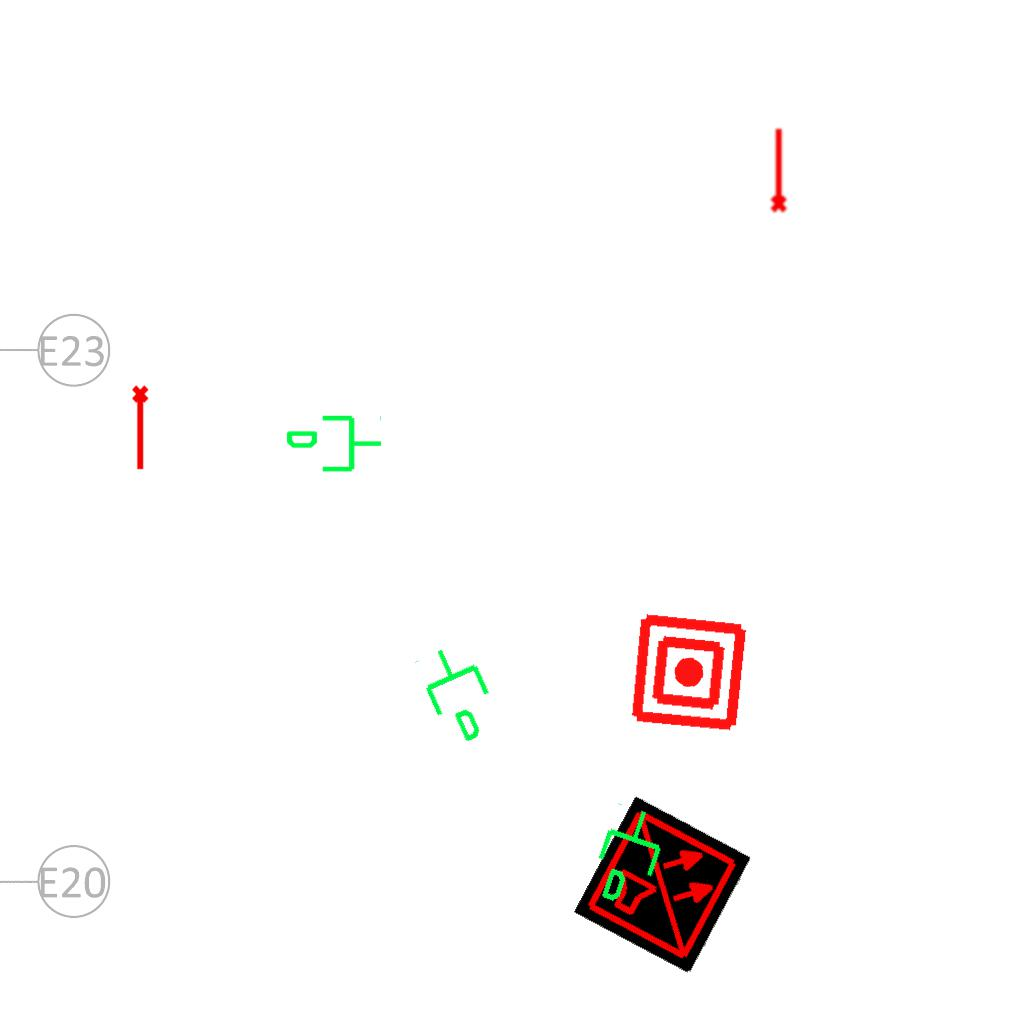ASR_Ansaugoeffnung: (130, 384, 153, 472), (766, 126, 789, 214)
Datenanschluss_einfach: (408, 633, 513, 753), (581, 798, 680, 916), (284, 411, 384, 480)
NAM-Nichtautomatischer_Melder: (626, 610, 751, 735)
OKW_Multisensormelder_(Kombination_optischer_Rauch-Kahlenmonoxid_Waerme-Melder): (573, 795, 753, 975)
